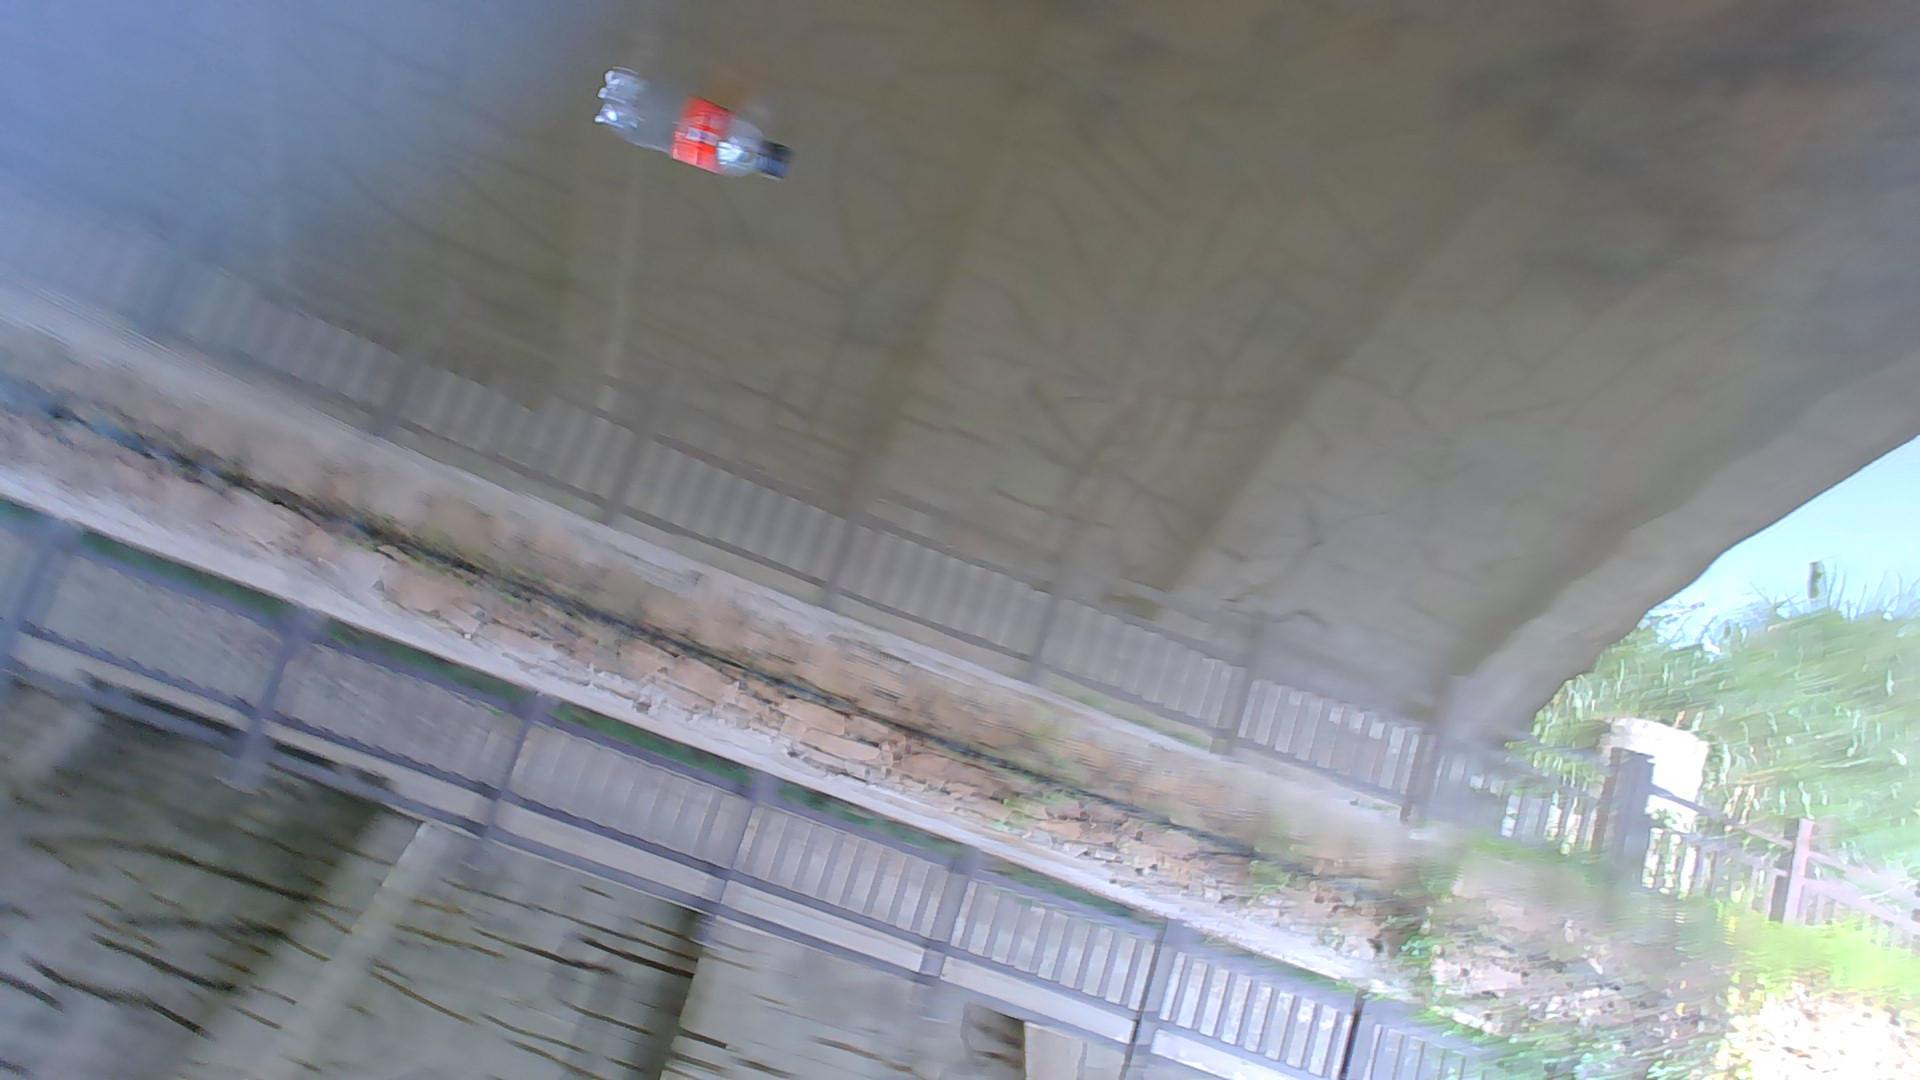Plastic: (585, 65, 804, 194)
